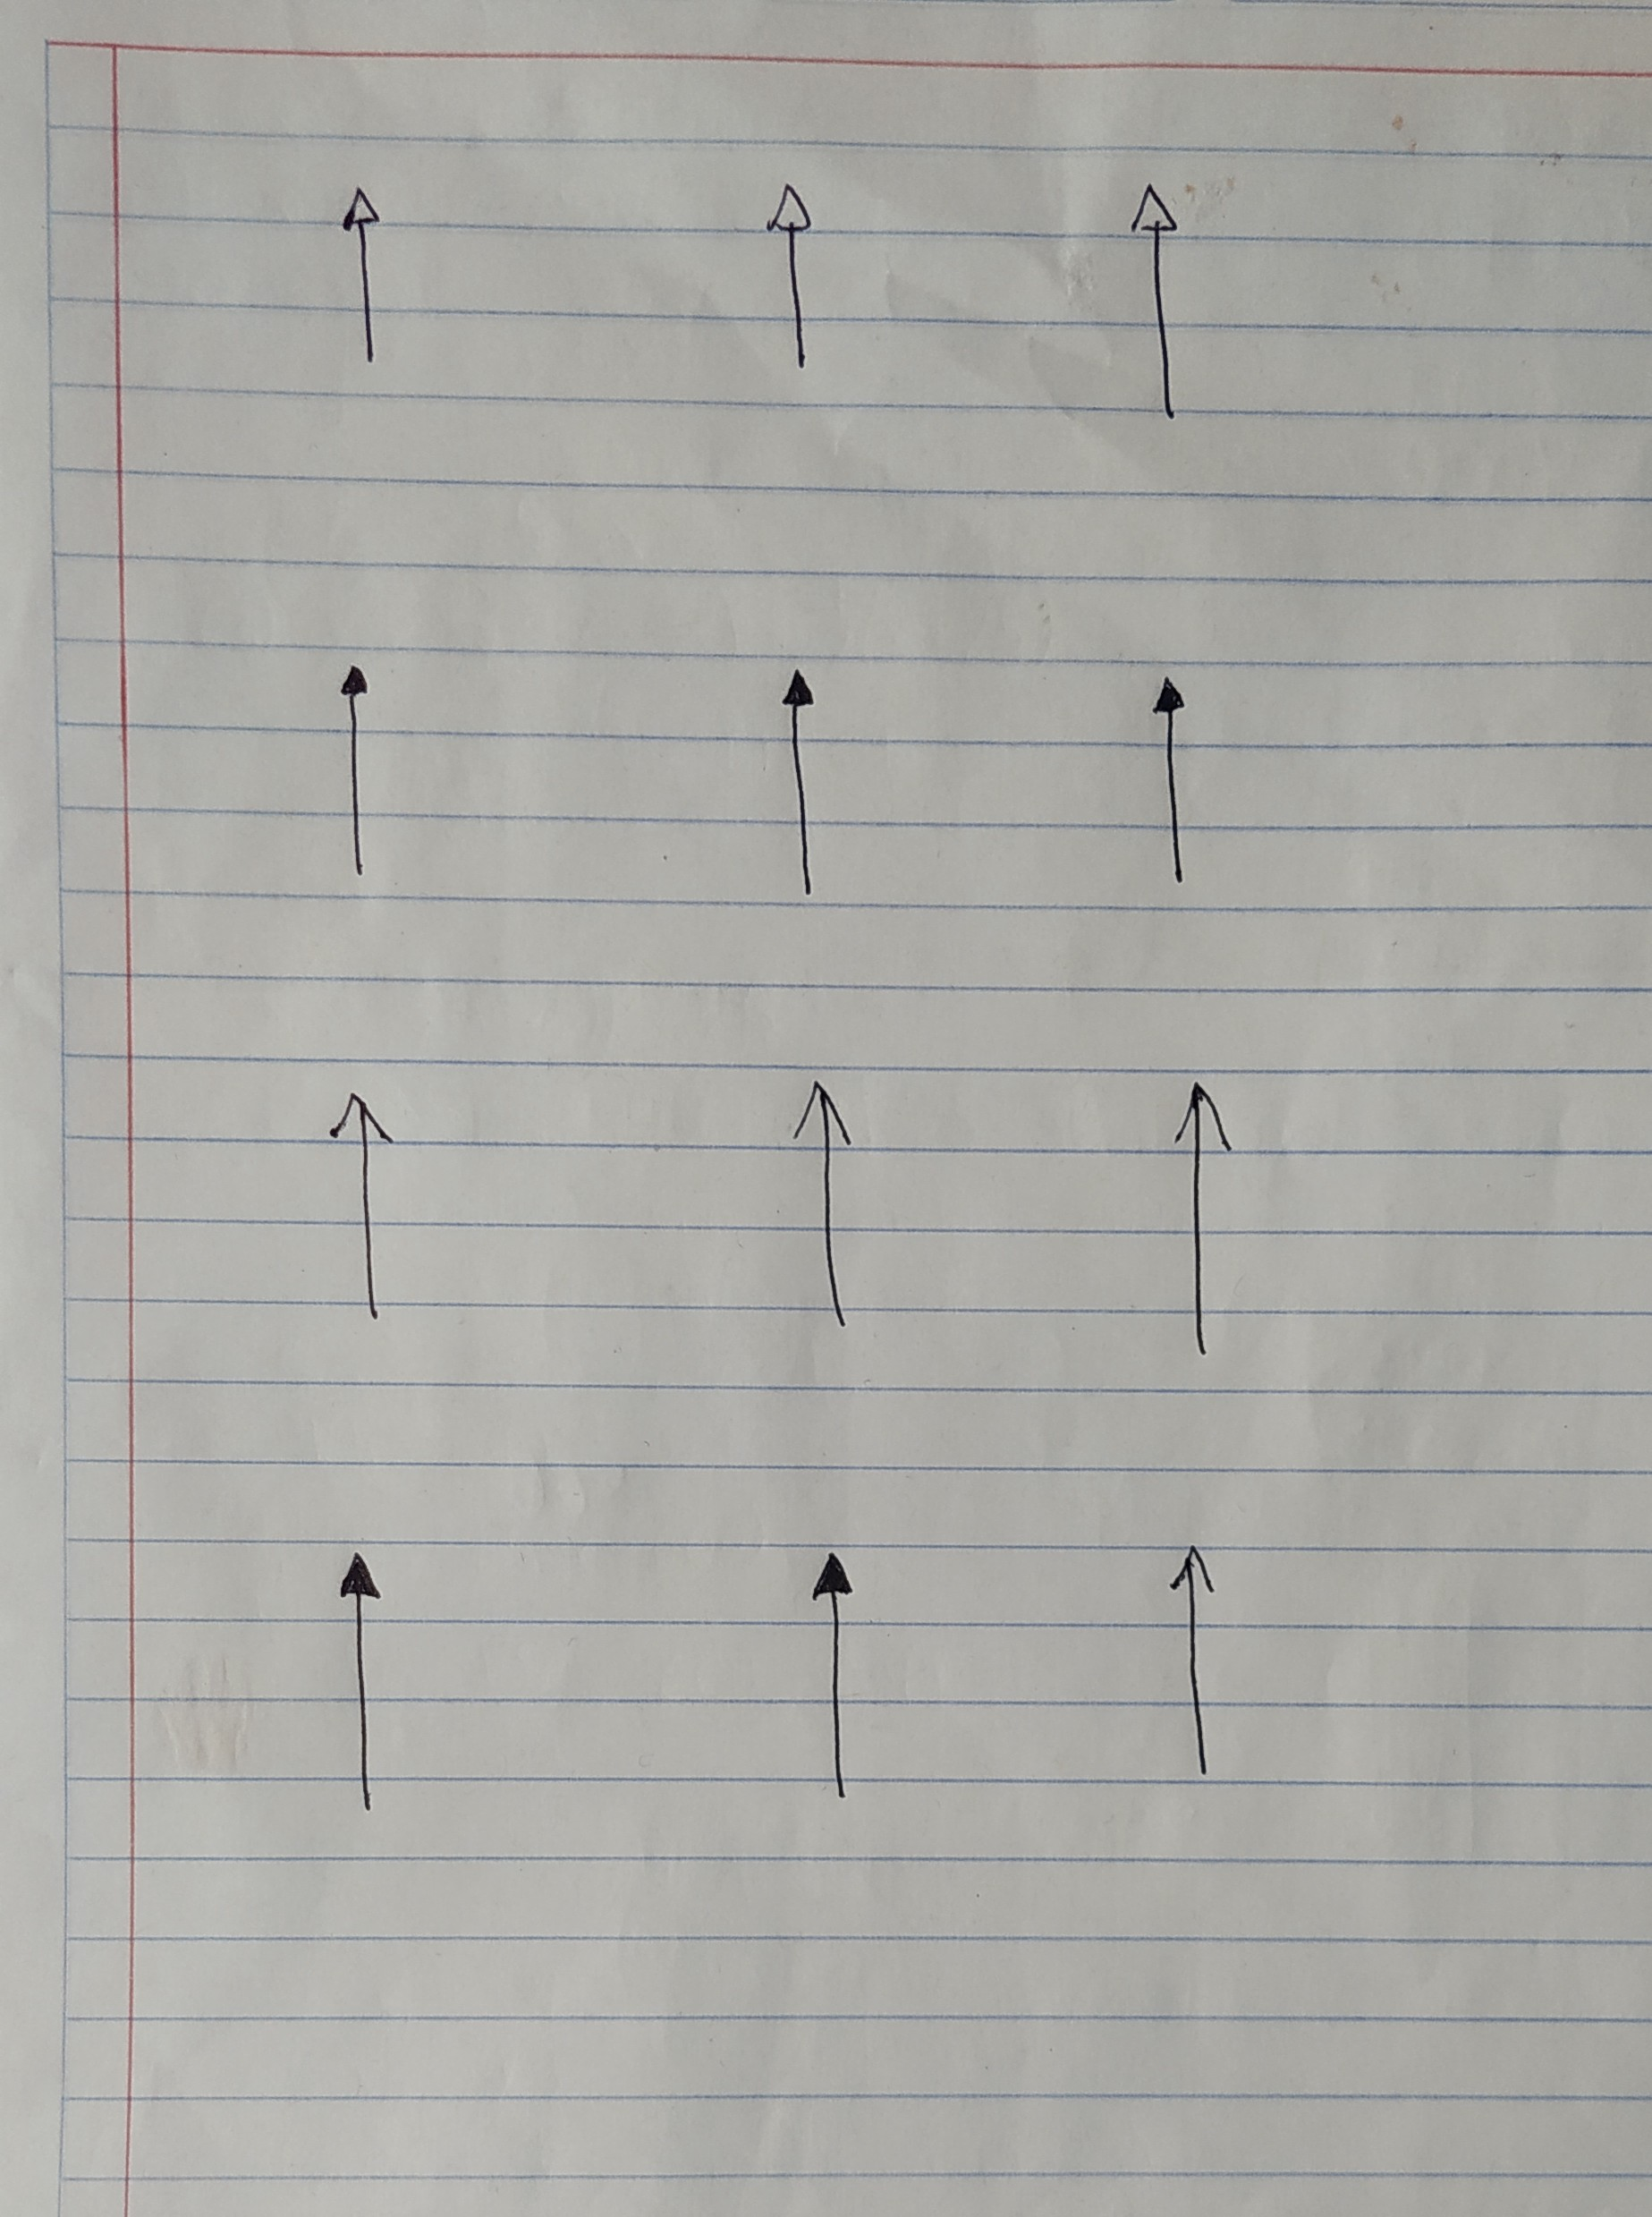arrow_line_up: (790, 1083, 866, 1332), (1170, 1078, 1236, 1359), (326, 1092, 394, 1328), (333, 1552, 390, 1811), (1128, 182, 1189, 417), (807, 1545, 861, 1802), (1168, 1542, 1222, 1773), (330, 660, 377, 885), (1149, 672, 1196, 898), (779, 667, 824, 899), (767, 181, 817, 378), (338, 182, 387, 370)
